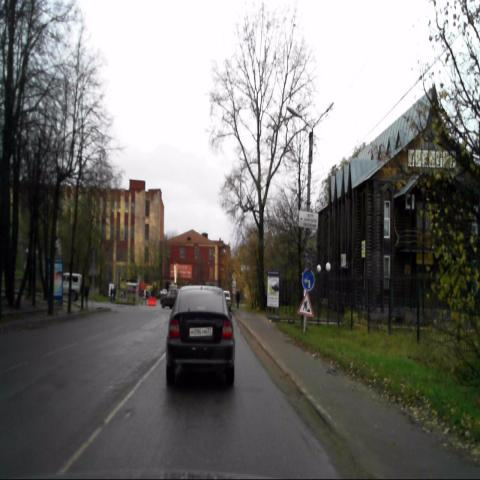4_1_3: (302, 268, 315, 292)
